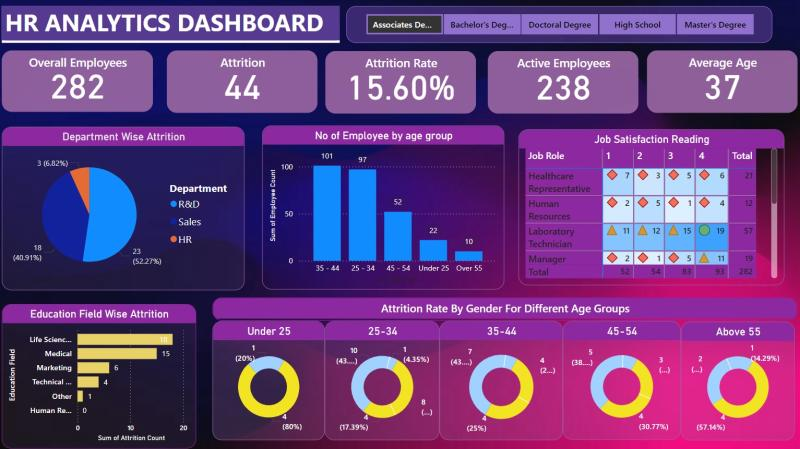

The dashboard page shown, as its layout file describes it:
{"tool":"powerbi","page":{"name":"Page 1","canvas":[1280,720],"ordinal":0},"visuals":[{"type":"card","title":"      Overall Employees ","fields":{"Values":["Sum(HR data.Employee Count)"]},"box":[5.9,81.6,240.3,97.9],"z":0},{"type":"card","title":"   Attrition","fields":{"Values":["Sum(HR data.Attrition Count )"]},"box":[268.6,81.4,239.5,98.8],"z":1000},{"type":"card","title":"Attrition Rate ","fields":{"Values":["HR data.Attrition Rate"]},"box":[519.8,82.6,239.5,98.8],"z":2000},{"type":"card","title":"Active Employees","fields":{"Values":["HR data.Active Employees"]},"box":[777.9,82.6,239.5,98.8],"z":3000},{"type":"card","title":"Average Age","fields":{"Values":["Avg(HR data.Age)"]},"box":[1031.4,81.4,239.5,98.8],"z":4000},{"type":"pieChart","title":"Department Wise Attrition ","fields":{"Category":["HR data.Department"],"Y":["Sum(HR data.Attrition Count )"]},"box":[5.9,203.2,385.7,259.6],"z":5000},{"type":"columnChart","title":"No of Employee by age group ","fields":{"Category":["HR data.CF_age band"],"Y":["Sum(HR data.Employee Count)"]},"box":[419.7,201.2,384.9,260.8],"z":6000},{"type":"pivotTable","title":"Job Satisfaction Reading ","fields":{"Rows":["HR data.Job Role"],"Columns":["HR data.Job Satisfaction"],"Values":["Sum(HR data.Employee Count)"]},"box":[827,207.4,422.2,248.4],"z":7000},{"type":"barChart","title":"Education Field Wise Attrition ","fields":{"Category":["HR data.Education Field"],"Y":["Sum(HR data.Attrition Count )"]},"box":[5.9,485.1,308.6,229.9],"z":8000},{"type":"donutChart","title":"Under 25 ","fields":{"Category":["HR data.Gender"],"Y":["Sum(HR data.Attrition Count )"],"Series":["HR data.CF_age band"]},"box":[341.2,511.8,178,189.9],"z":9000},{"type":"textbox","title":"Attrition Rate By Gender For Different Age Groups ","box":[341.2,474.7,928.7,37.1],"z":10000},{"type":"donutChart","title":"25-34","fields":{"Category":["HR data.Gender"],"Y":["Sum(HR data.Attrition Count )"],"Series":["HR data.CF_age band"]},"box":[519.2,511.8,182.5,189.9],"z":11000},{"type":"donutChart","title":"35-44","fields":{"Category":["HR data.Gender"],"Y":["Sum(HR data.Attrition Count )"],"Series":["HR data.CF_age band"]},"box":[701.7,511.8,195.8,189.9],"z":12000},{"type":"donutChart","title":"45-54","fields":{"Category":["HR data.Gender"],"Y":["Sum(HR data.Attrition Count )"],"Series":["HR data.CF_age band"]},"box":[897.5,511.8,186.9,188.4],"z":13000},{"type":"donutChart","title":"Above 55","fields":{"Category":["HR data.Gender"],"Y":["Sum(HR data.Attrition Count )"],"Series":["HR data.CF_age band"]},"box":[1084.5,513.3,181,188.4],"z":14000},{"type":"textbox","title":"HR ANALYTICS DASHBOARD ","box":[6.2,11.2,536.4,58.4],"z":15000},{"type":"slicer","fields":{"Values":["HR data.Education"]},"box":[553.8,11.2,676.8,58.4],"z":16000}]}

Visuals, with their boxes in screenshot pixels (x1, y1, x2, y2), scaled from the page's 1280x720 canvas onto the 800x449 screenshot:
"      Overall Employees " card: 4:51:154:112
"   Attrition" card: 168:51:318:112
"Attrition Rate " card: 325:52:475:113
"Active Employees" card: 486:52:636:113
"Average Age" card: 645:51:794:112
"Department Wise Attrition " pieChart: 4:127:245:289
"No of Employee by age group " columnChart: 262:125:503:288
"Job Satisfaction Reading " pivotTable: 517:129:781:284
"Education Field Wise Attrition " barChart: 4:303:197:446
"Under 25 " donutChart: 213:319:324:438
"Attrition Rate By Gender For Different Age Groups " textbox: 213:296:794:319
"25-34" donutChart: 324:319:439:438
"35-44" donutChart: 439:319:561:438
"45-54" donutChart: 561:319:678:437
"Above 55" donutChart: 678:320:791:438
"HR ANALYTICS DASHBOARD " textbox: 4:7:339:43
slicer - HR data.Education: 346:7:769:43
